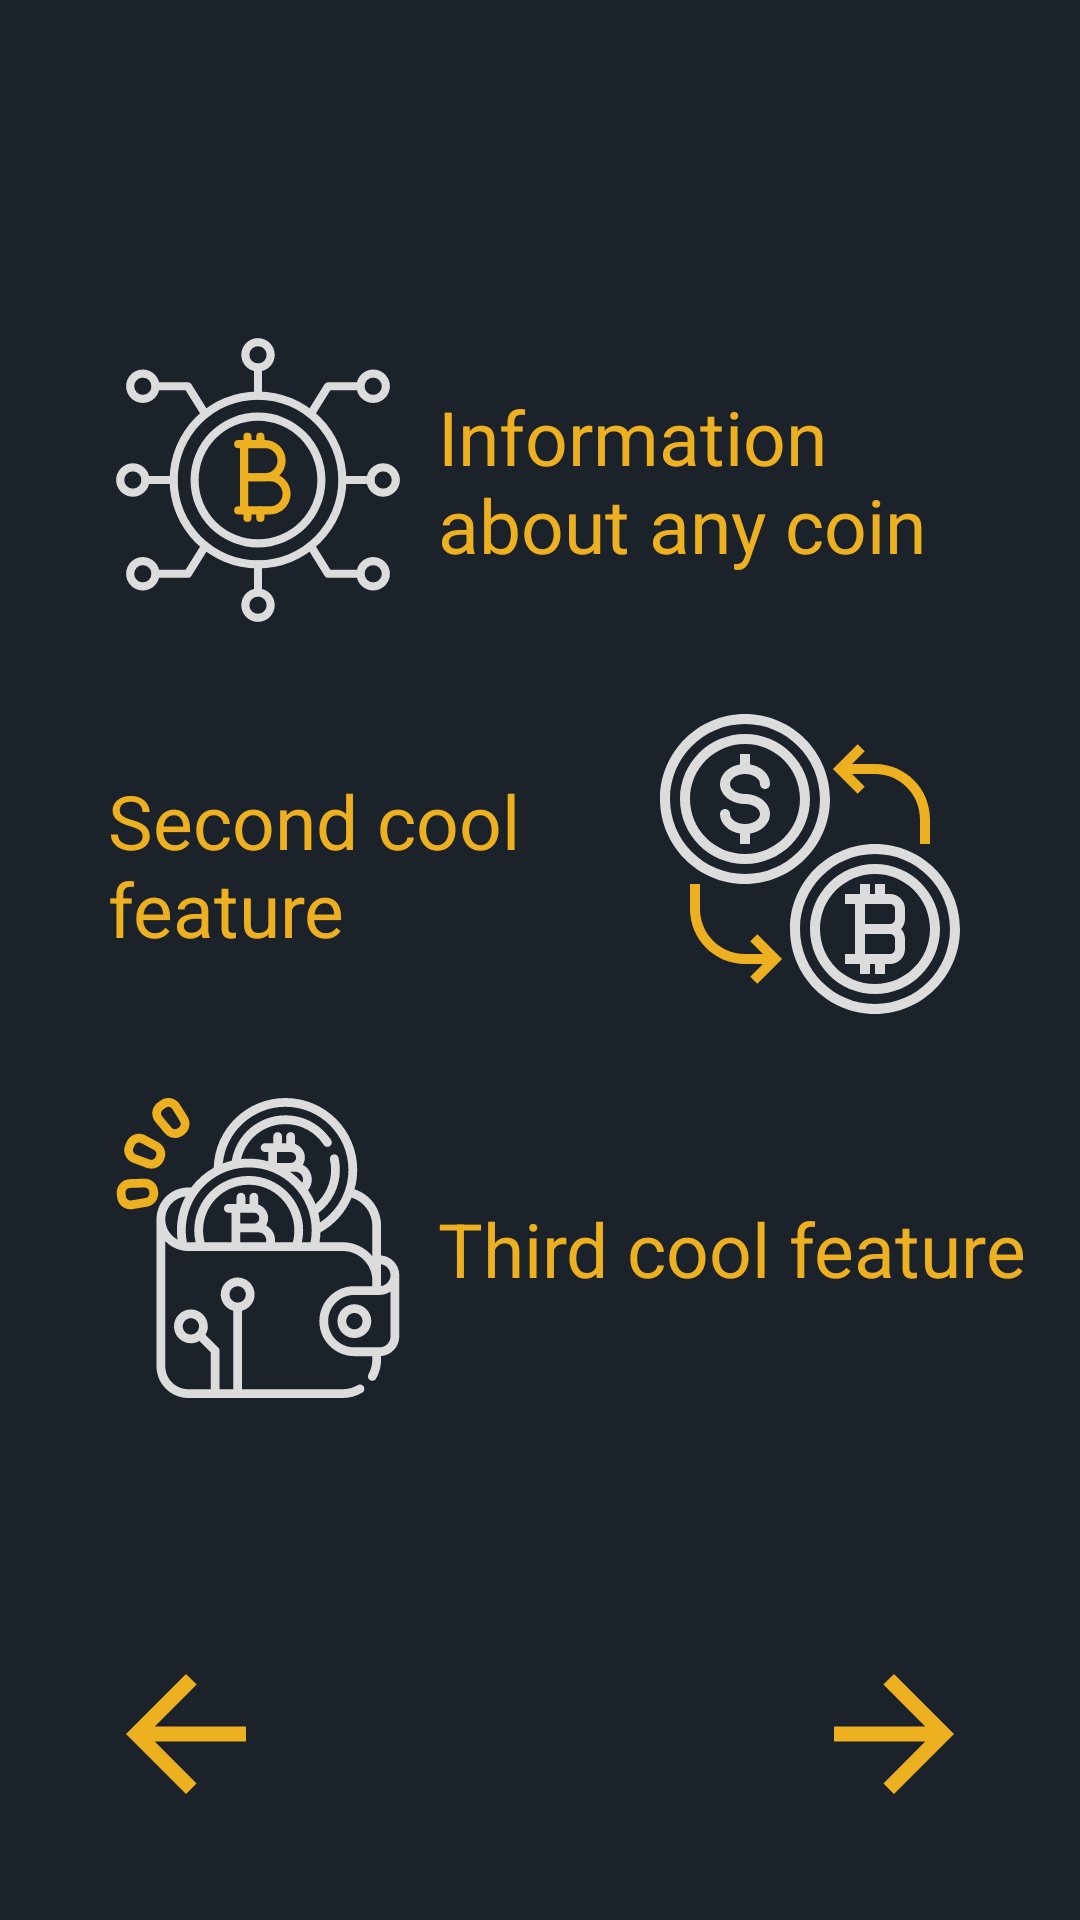

Named icons in this screenshot (1080 x 1920) and their centers, [x,y]:
arrow back: [186,1734]
arrow forward: [894,1734]
bitcoin: [258,480]
exchange: [810,864]
